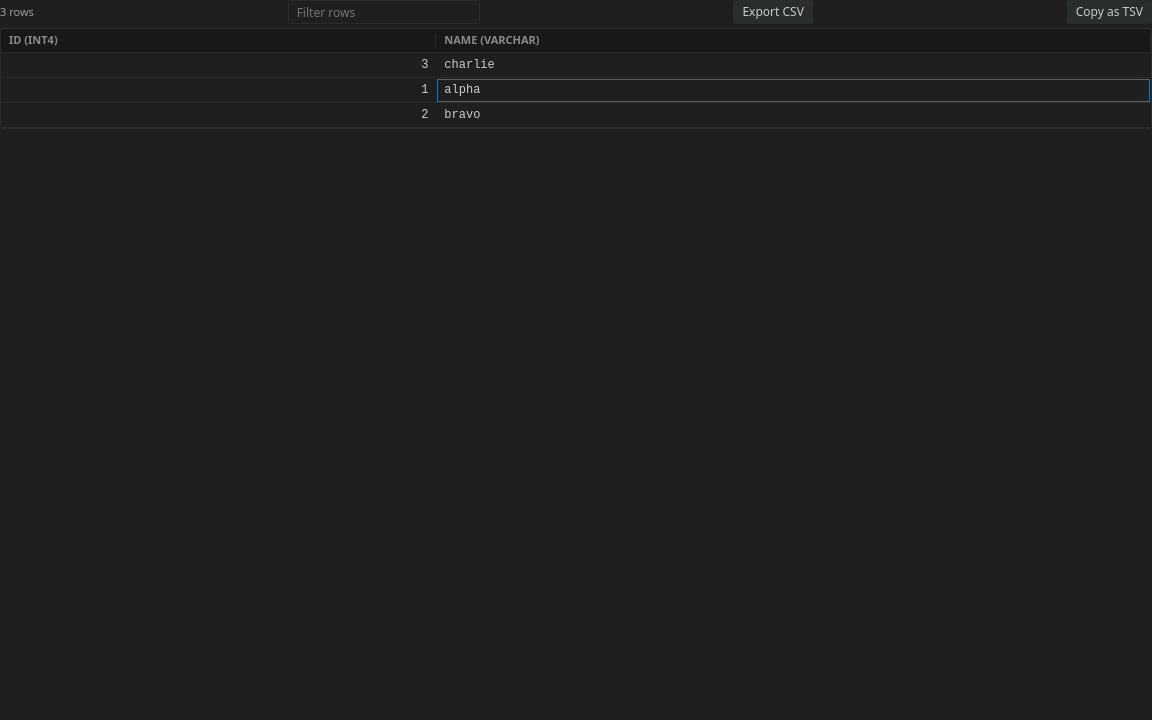
Test: ResultsGrid — cell viewer › opening the panel moves focus into it, onto Close, and closing it returns focus to the opening cell
The image size is (1152, 720).
Click the text "alpha" at (794, 90), box [436,78,1151,103]
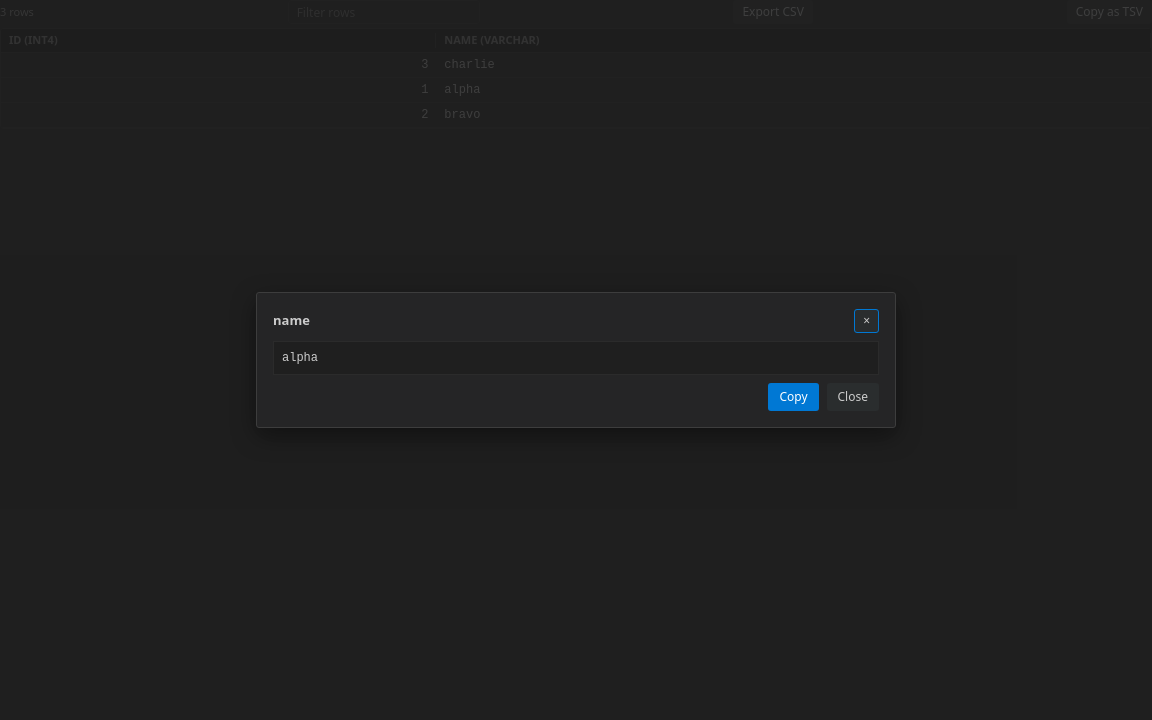
Result: the dialog is shown at [256,292,896,428]
Click the button named "Close" at (867, 321), box [854,309,879,333]
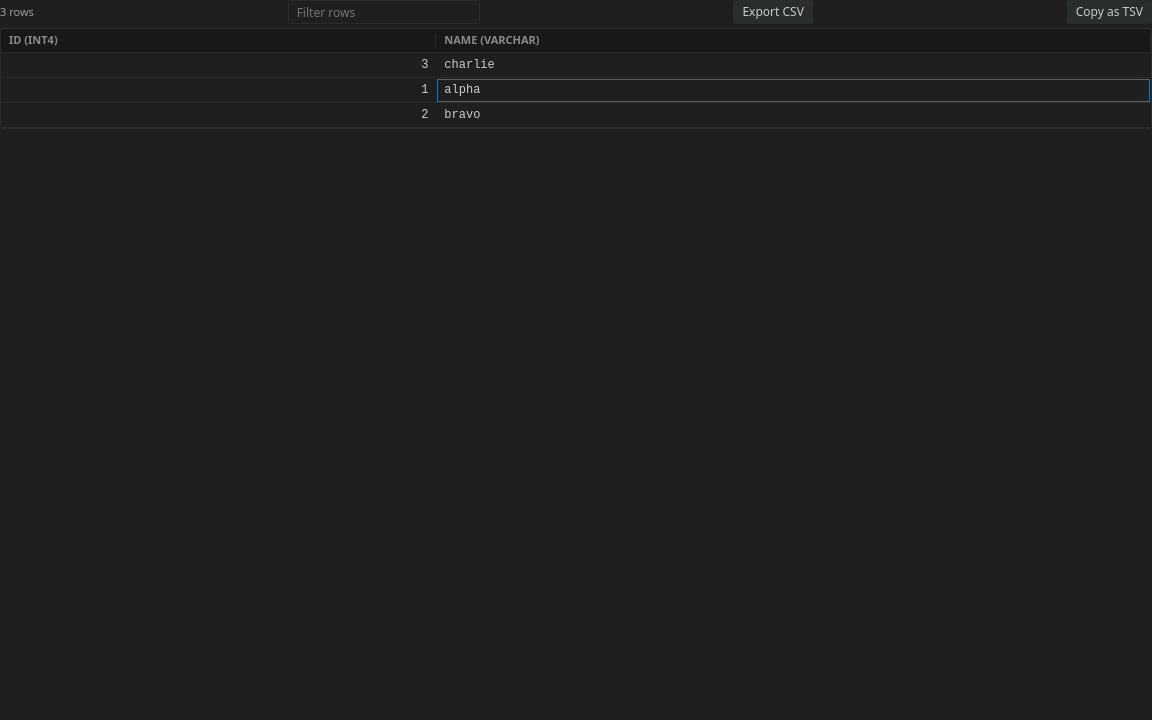
Result: the dialog is gone
